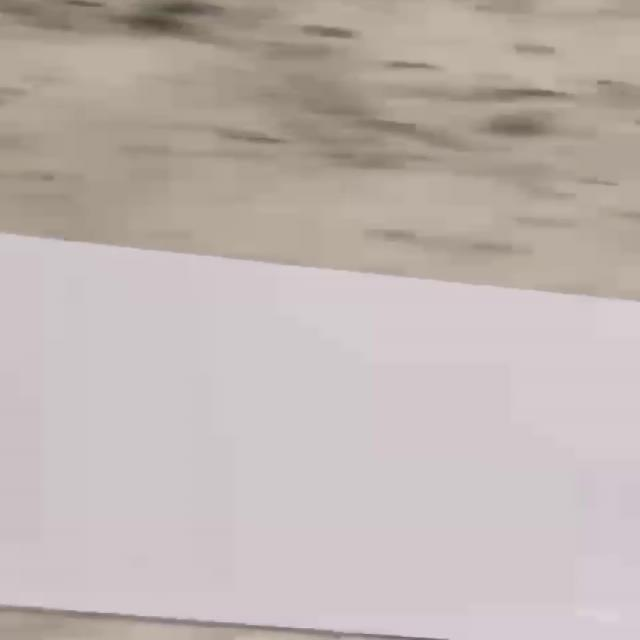road: (1, 235, 639, 640)
